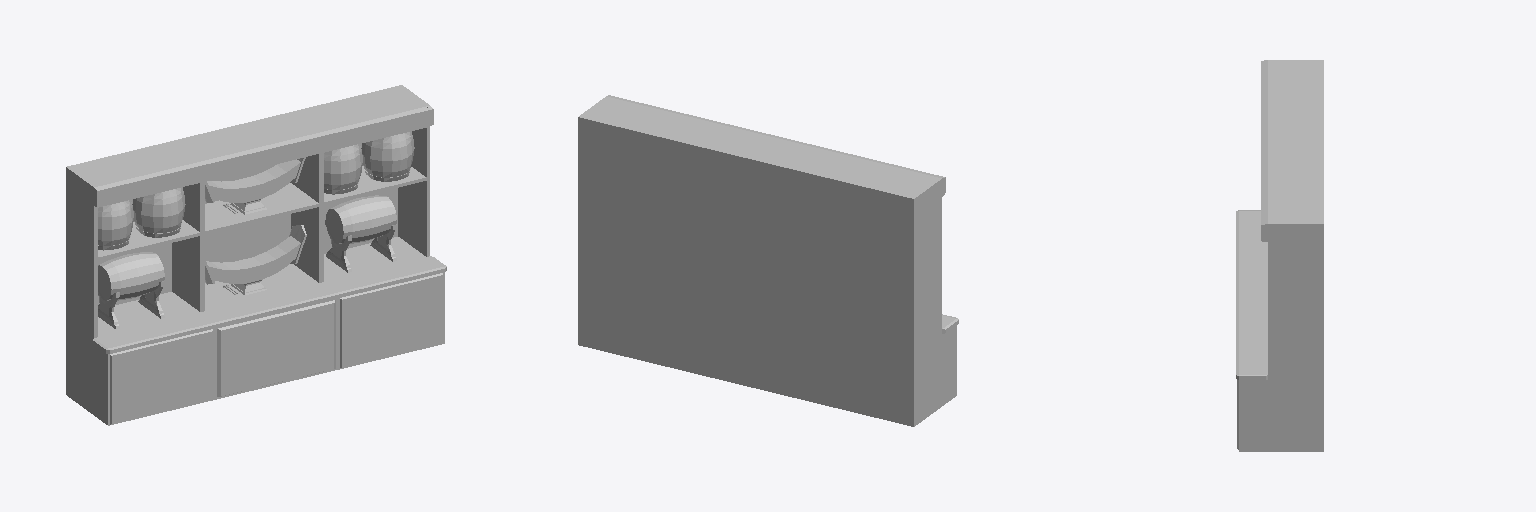
File: musical cabinet-2.obj
The picture shows the model from 3 angles: view 1: azimuth 30°, elevation 25°; view 2: azimuth 150°, elevation 25°; view 3: azimuth 270°, elevation 25°; orthographic projection.
Visible parts, largest first — view 1: Cube, Klong_that-1.001, Klong_that-1.002, _Tapon.001, _Tapon, Ranad, Ranad.001; view 2: Cube; view 3: Cube.
Part boxes in pixels (x1,y1,x2,y2): Cube: (66,85,446,425); Klong_that-1.001: (324,131,414,194); Klong_that-1.002: (98,187,185,250); _Tapon.001: (325,195,396,272); _Tapon: (98,252,164,329); Ranad: (205,225,306,294); Ranad.001: (205,157,305,214); Cube: (578,95,958,426); Cube: (1236,60,1323,451).
Size of the model in its own units: 13.93 by 8.9 by 3.12.